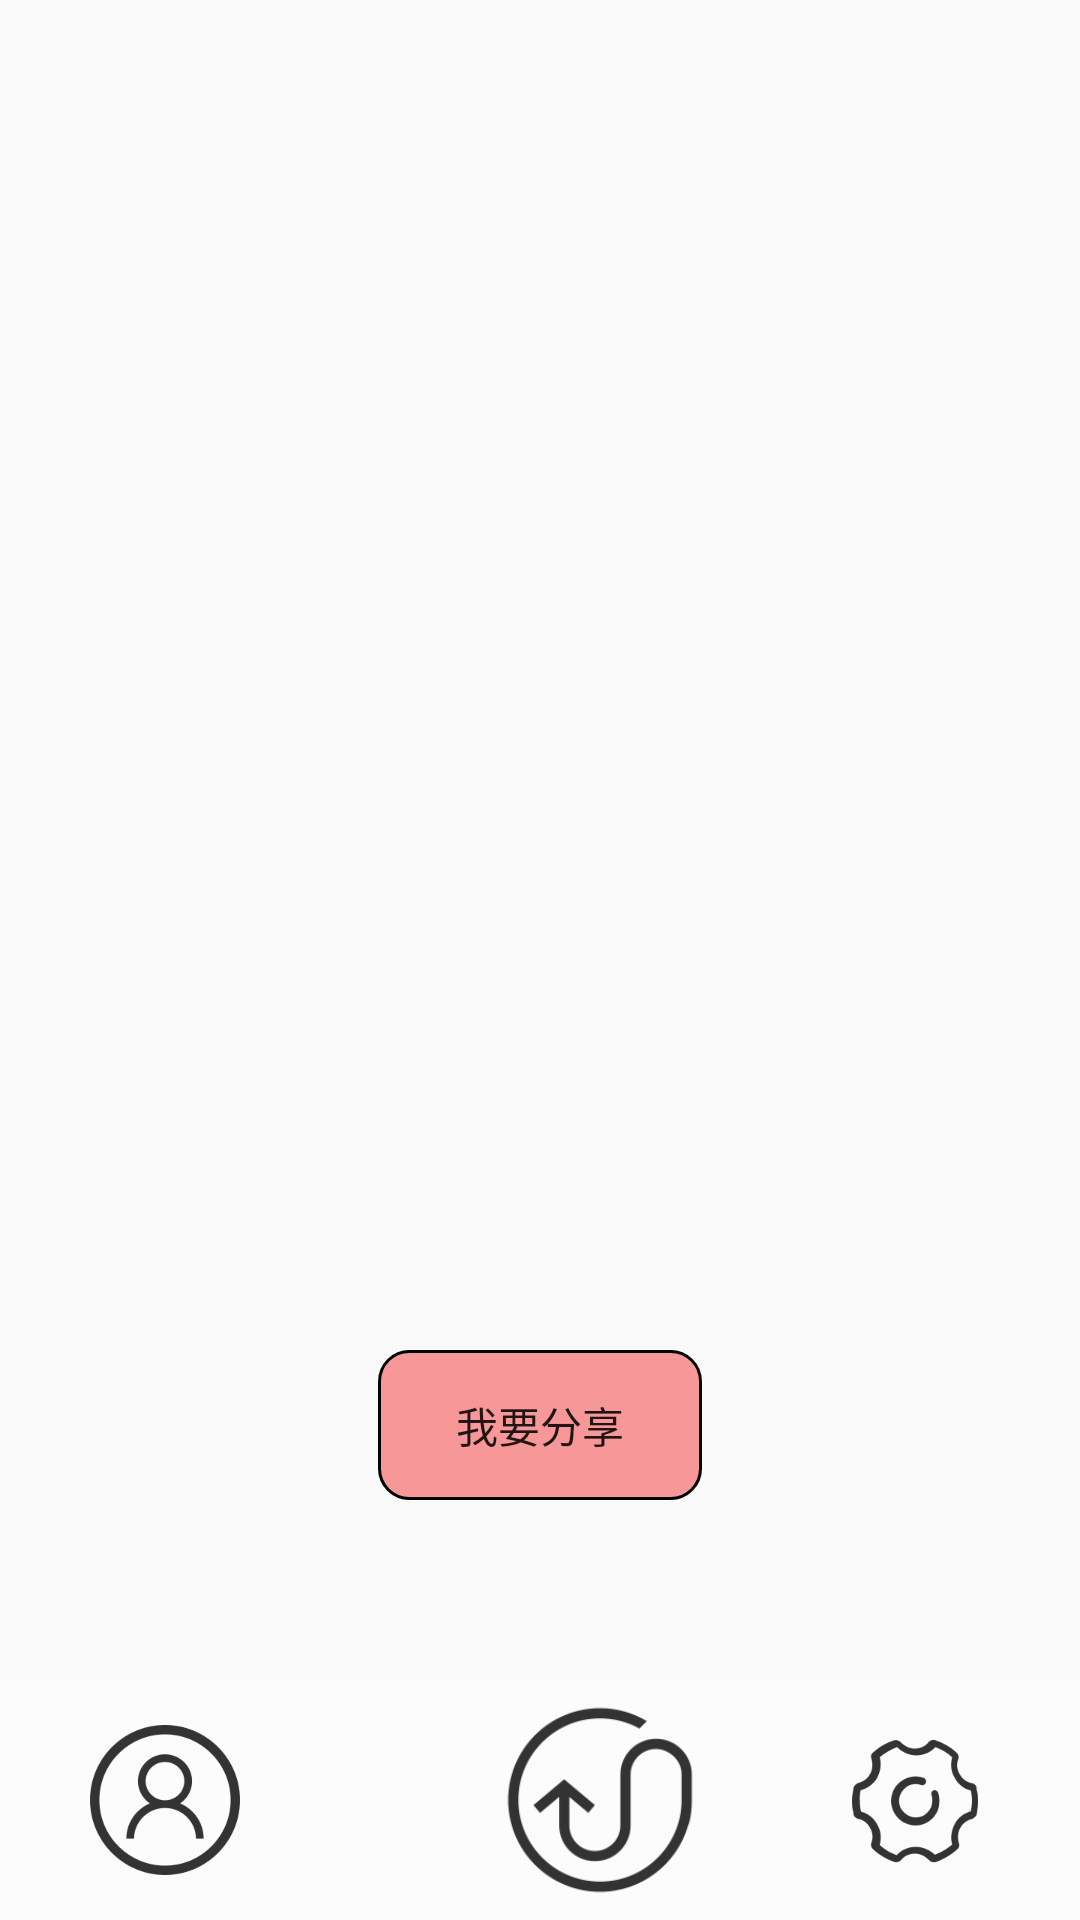

Icon bounding boxes for this 1080w x 1920h phone screenshot, format (x1, y1, x2, y2):
geren: (90, 1725, 240, 1875)
luxian: (507, 1707, 693, 1893)
shezhi: (852, 1740, 978, 1863)
